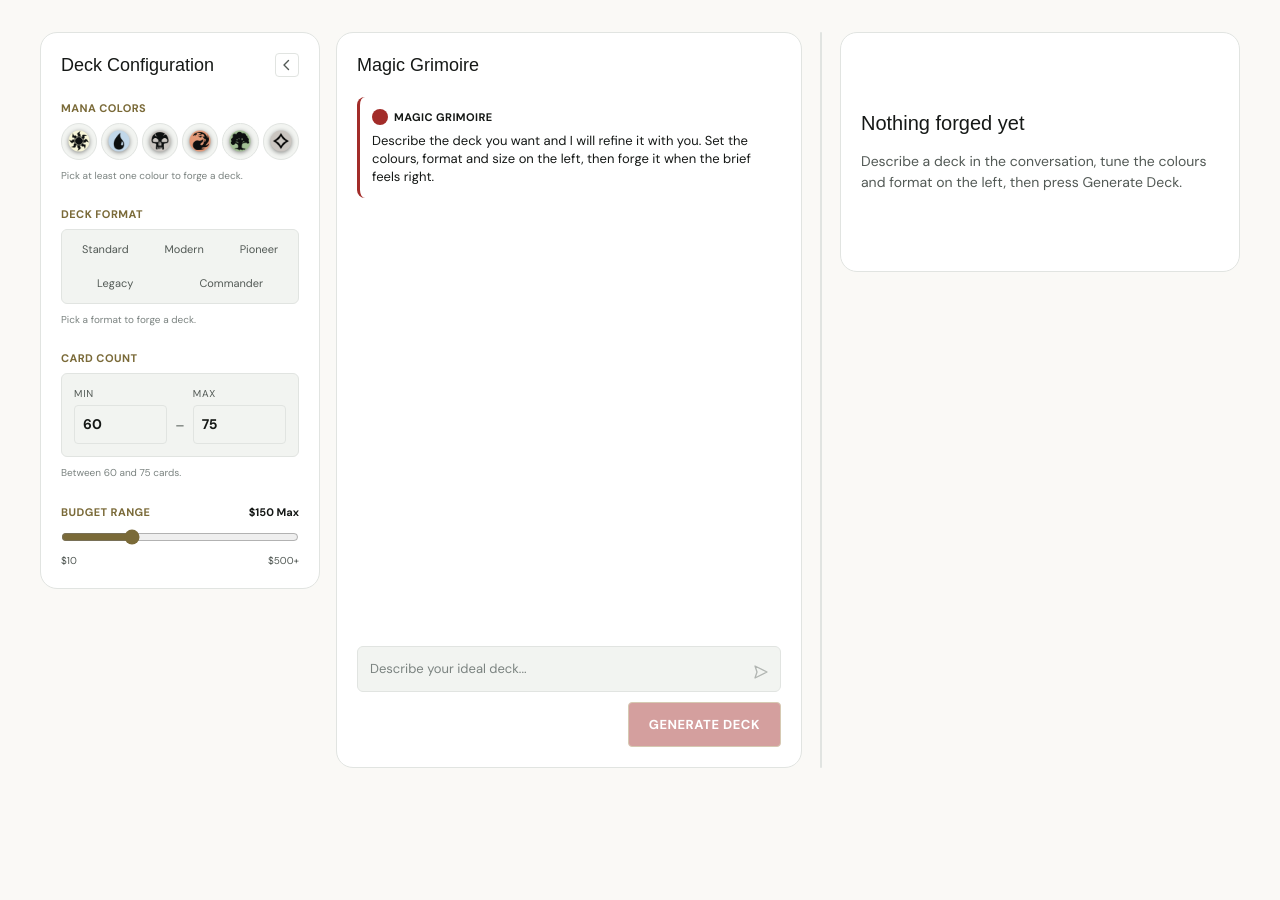
Test: DeckBuilderPage — shell › offers colourless, which DeckGenerateRequest accepts
Click the 6th button named "Colorless" at (281, 141), box [263, 123, 299, 160]
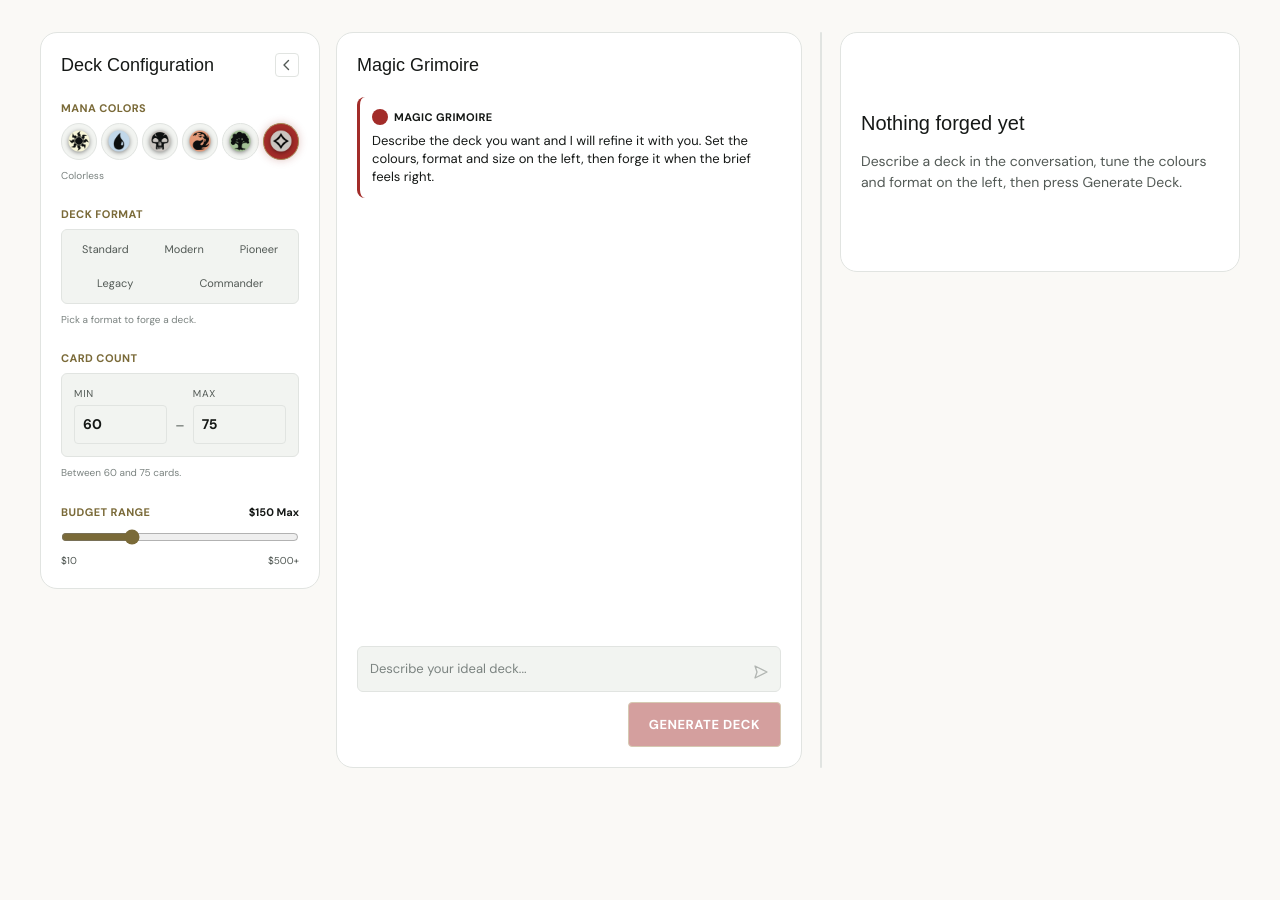
Click the 4th button named "Red" at (200, 141), box [182, 123, 218, 160]
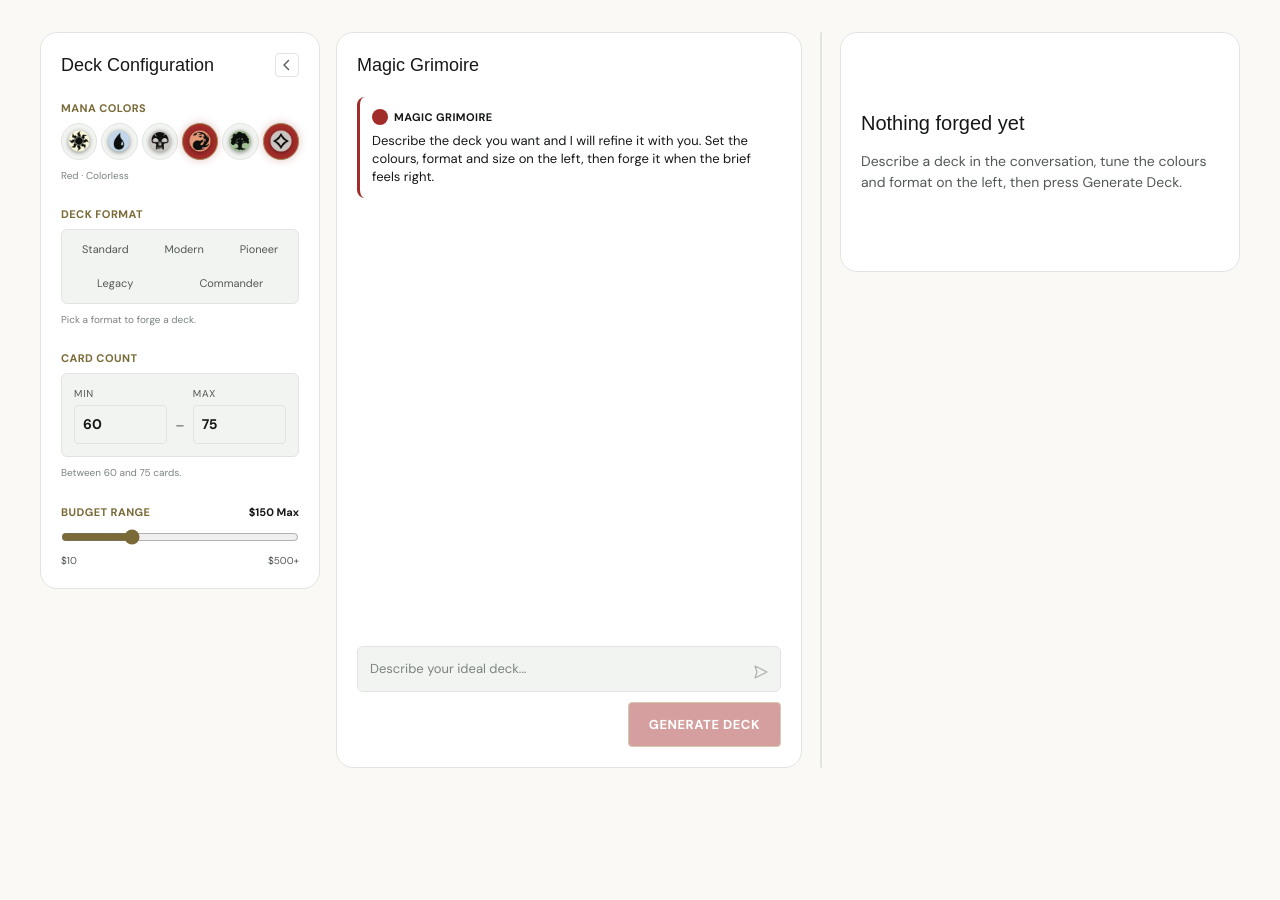
Now the text "Red · Colorless" is shown, box [61, 169, 129, 182]
